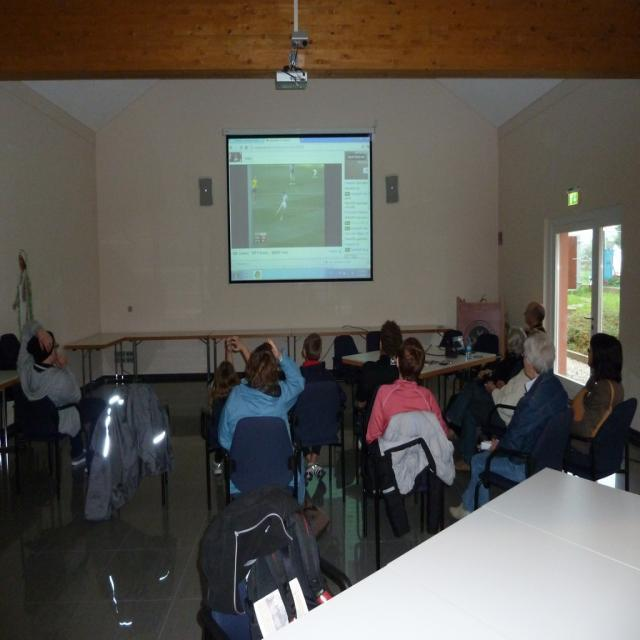others: (181, 119, 430, 283)
